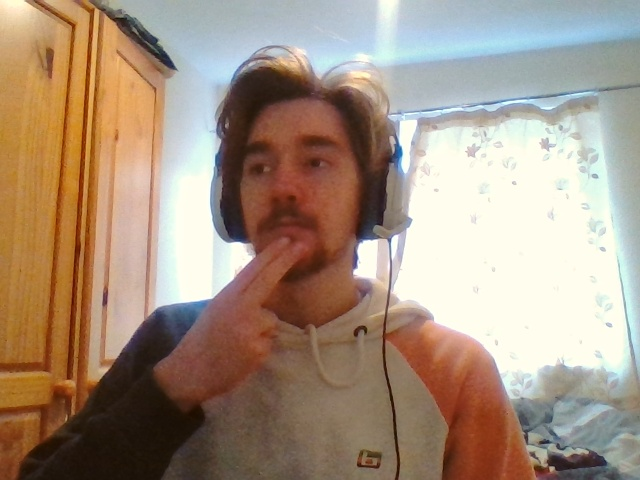afternoon: (162, 237, 306, 398)
